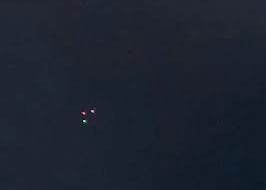Plane: (67, 100, 108, 129)
